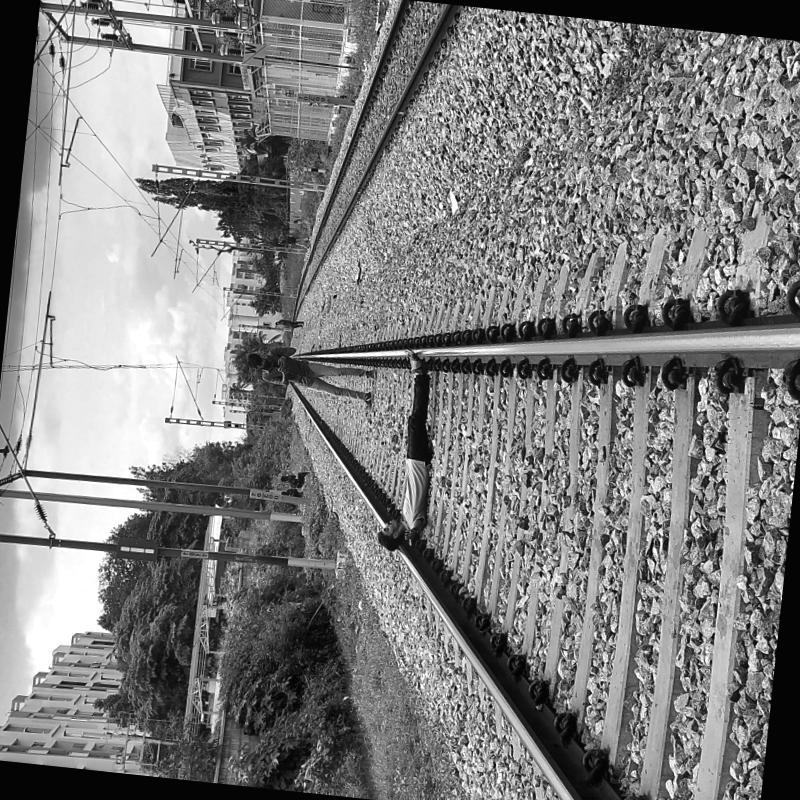sleeping: (376, 342, 440, 561)
